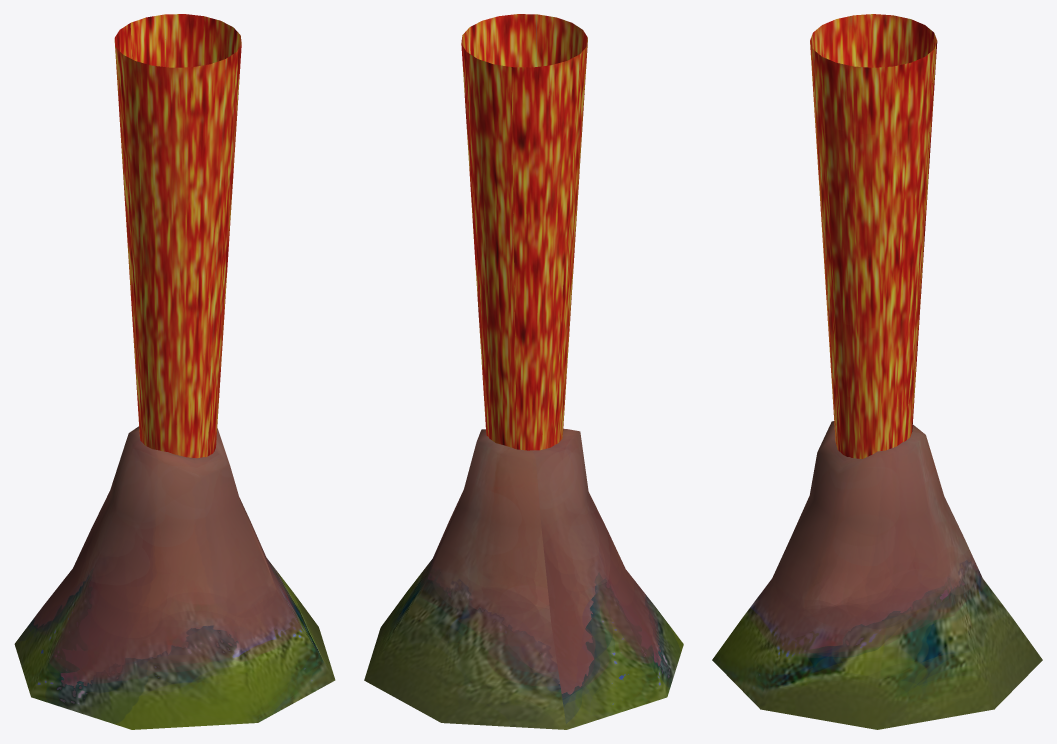
File: Volcano.FBX
3 views of the same model, side by side, from view 1: azimuth 30°, elevation 25°; view 2: azimuth 150°, elevation 25°; view 3: azimuth 270°, elevation 25° (orthographic).
Visible parts, largest first — view 1: Volcano, VolcanoLava; view 2: Volcano, VolcanoLava; view 3: Volcano, VolcanoLava.
Part boxes in pixels (x1=…): Volcano: x1=14, y1=426, x2=335, y2=729; VolcanoLava: x1=114, y1=14, x2=241, y2=458; Volcano: x1=364, y1=428, x2=683, y2=729; VolcanoLava: x1=461, y1=14, x2=587, y2=450; Volcano: x1=712, y1=421, x2=1042, y2=729; VolcanoLava: x1=810, y1=14, x2=937, y2=458.
Bounding box in the file's own units: 53.1 × 110 × 53.1.
